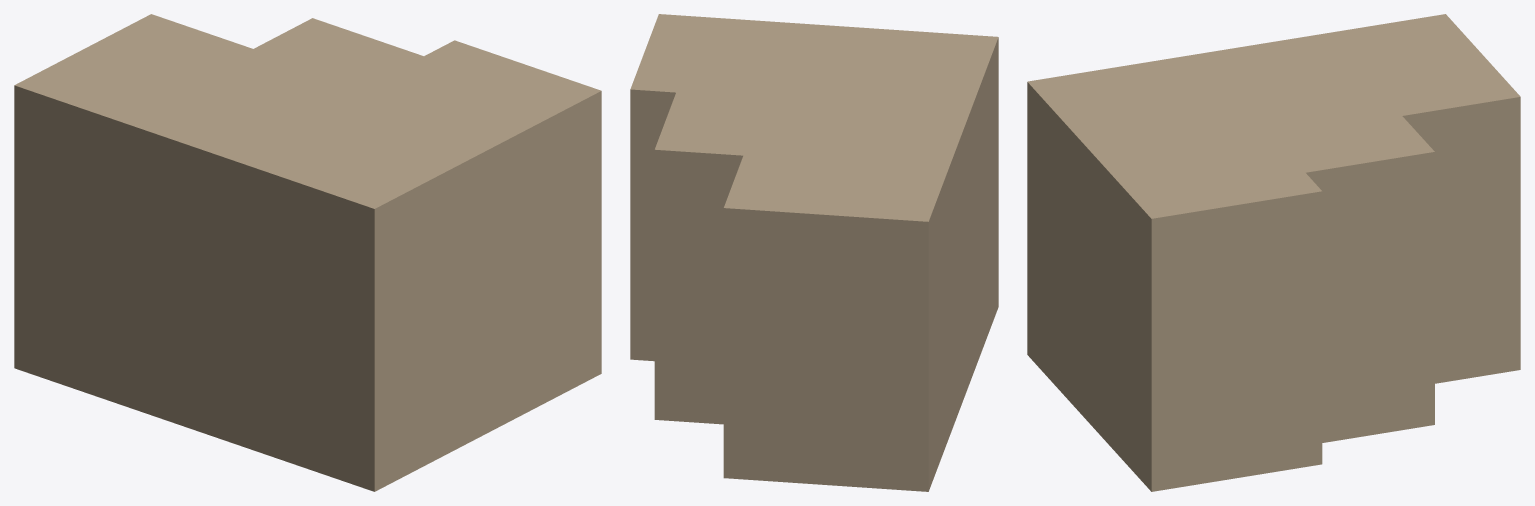
The model's file is bld_106339026.dae.
3 views of the same model, side by side, from view 1: azimuth 30°, elevation 25°; view 2: azimuth 150°, elevation 25°; view 3: azimuth 270°, elevation 25° (orthographic). The views are drawn at different scales.
Parts seen in each view (by area): view 1: bld_106339026; view 2: bld_106339026; view 3: bld_106339026.
Part boxes in pixels (x1,y1,x2,y2): bld_106339026: (14,14,601,491); bld_106339026: (630,14,998,491); bld_106339026: (1027,14,1520,491).
Size of the model in its own units: 12.87 by 13.1 by 8.
